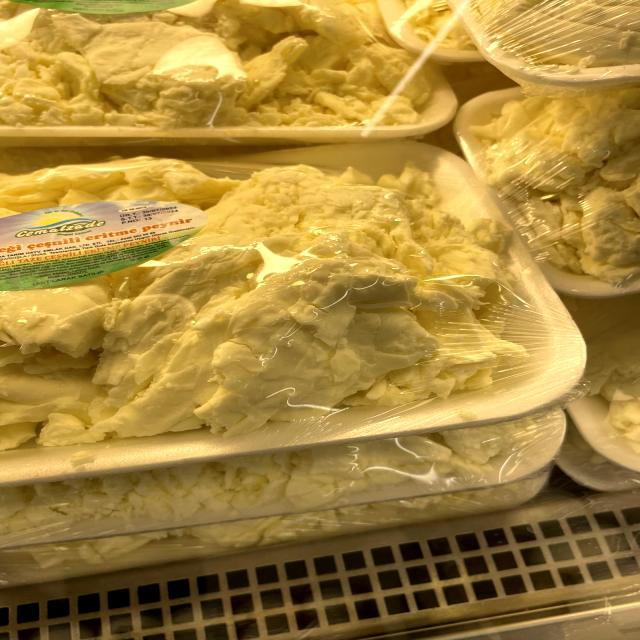cheese: (0, 168, 548, 432), (8, 5, 421, 139)
